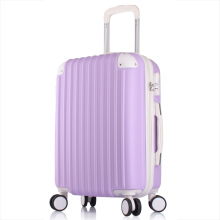luggage: (49, 5, 168, 217)
